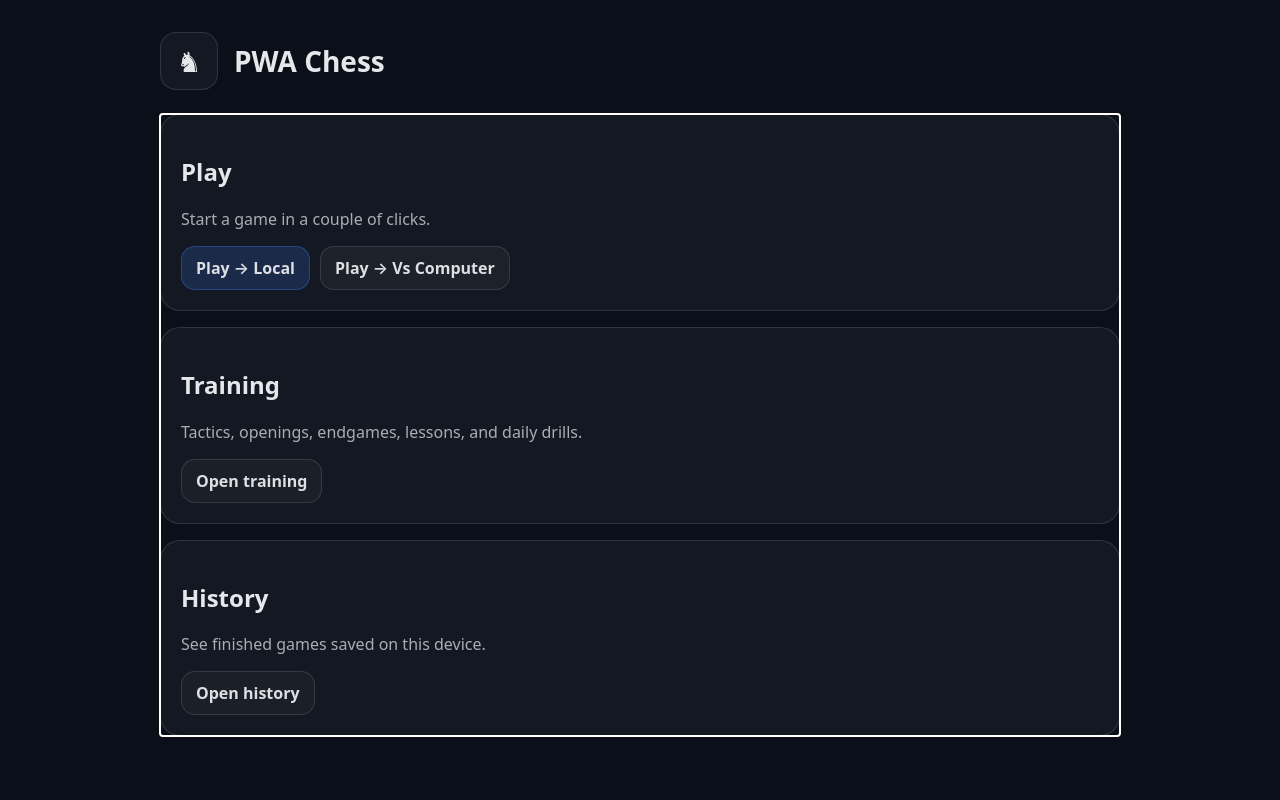
Test: App › lets the user start a local game (router smoke test)
The image size is (1280, 800).
Expected: the heading "PWA Chess" is shown, [234,42,385,80]
Click the link "Play → Local" at {"x": 246, "y": 268}, box [181,246,310,290]
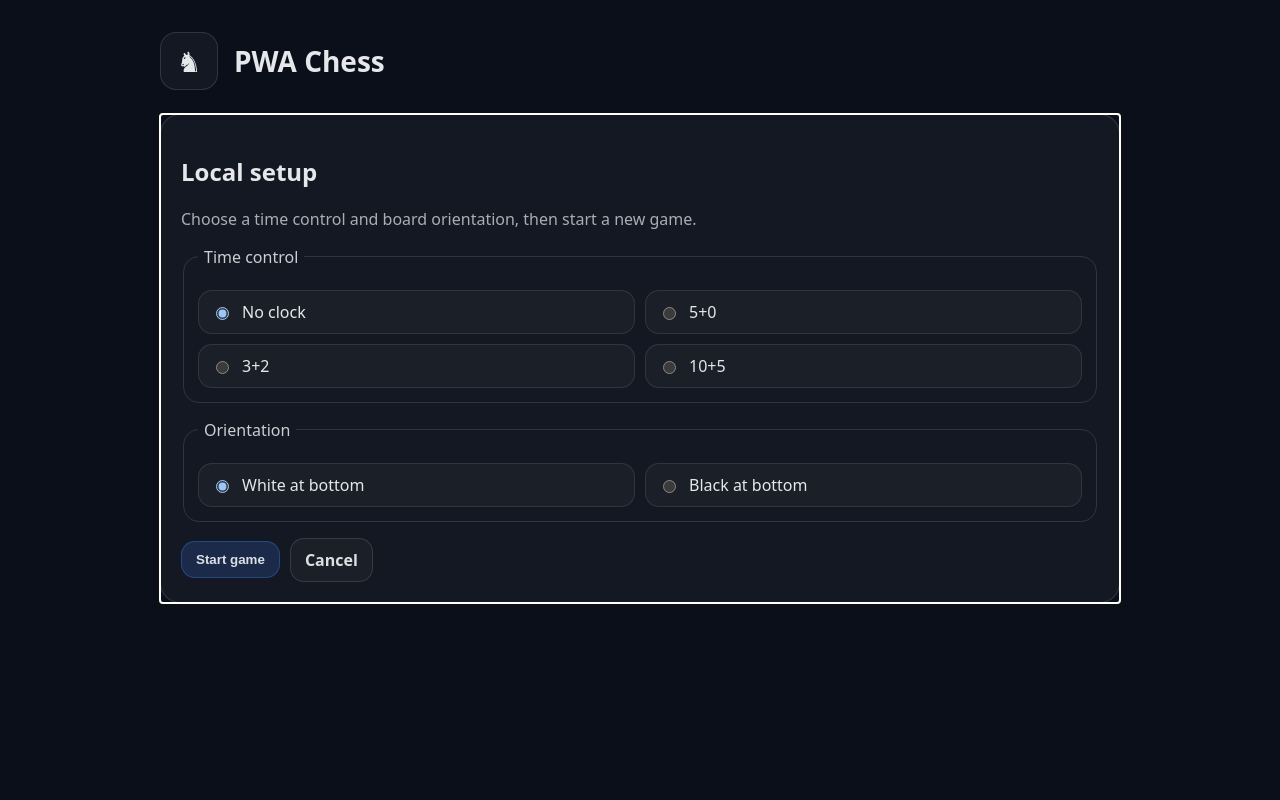
Expected: the heading "Local setup" is shown, [181,155,317,188]
Click the button "Start game" at {"x": 230, "y": 560}, box [181,541,280,578]
(page scrolled)
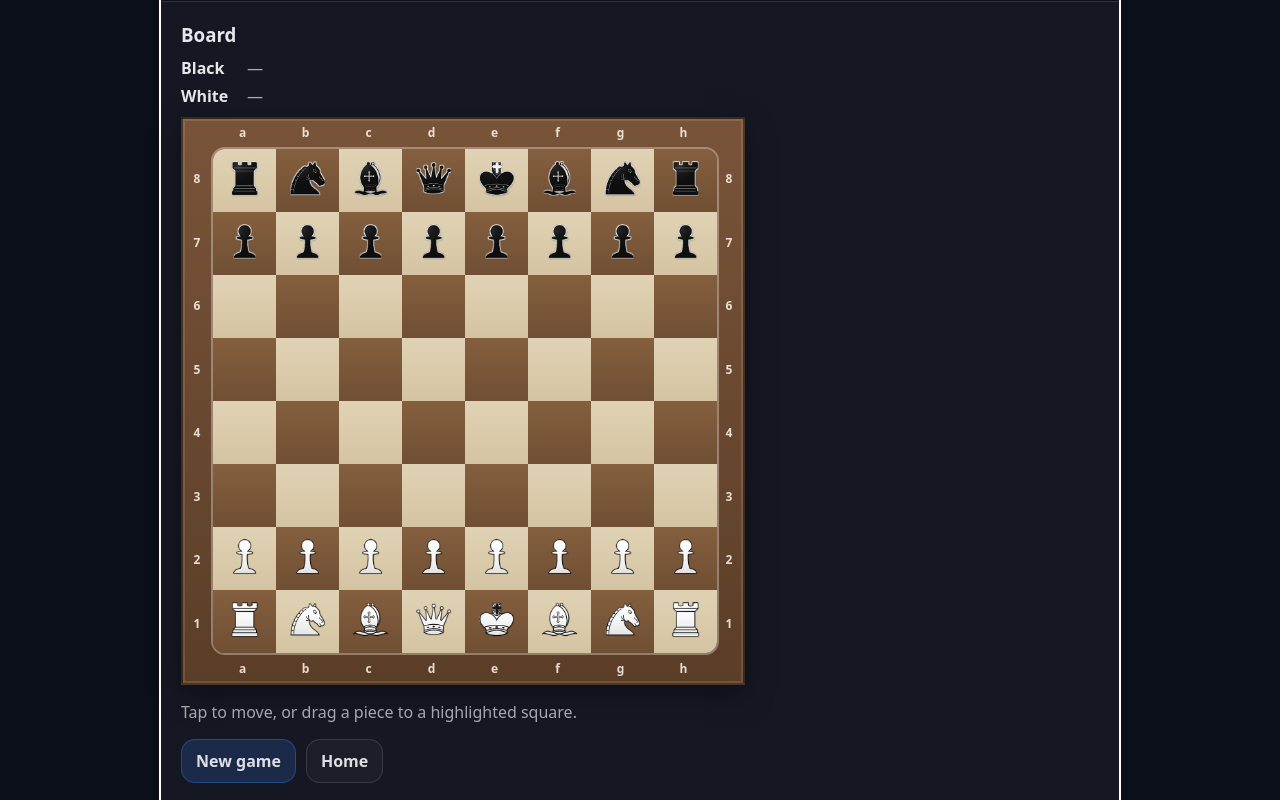
Expected: the table named "chess board" is shown, [211,147,719,655]
